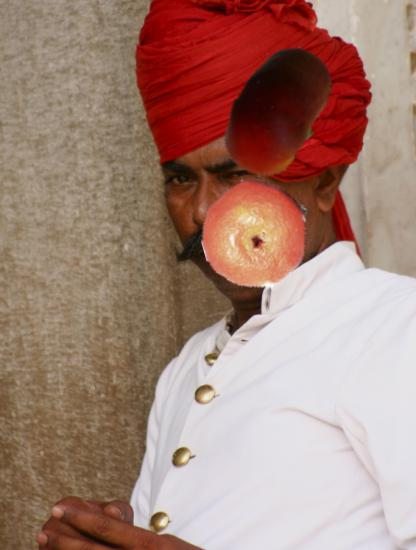Clementine: (201, 178, 313, 290)
Nectarine: (209, 43, 347, 181)
